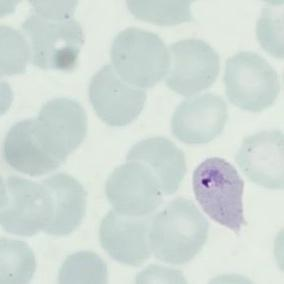Infected: (192, 156, 248, 235)
Uninfected: (152, 195, 209, 265), (111, 27, 169, 91), (222, 52, 279, 112), (90, 64, 146, 125), (164, 38, 221, 97), (26, 13, 84, 70), (127, 139, 186, 194), (99, 206, 152, 267), (0, 177, 53, 237), (4, 121, 65, 173), (172, 93, 229, 146), (106, 161, 160, 215), (237, 129, 284, 191), (41, 171, 86, 235), (40, 96, 89, 152)
